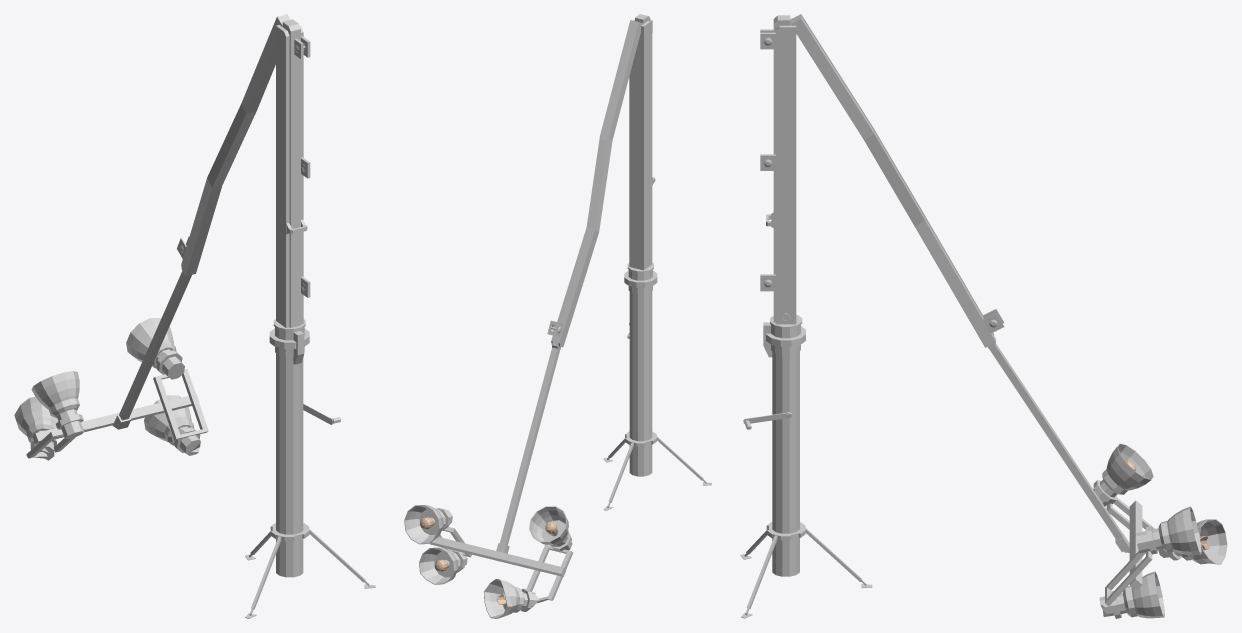
Rendered from SM_Lamp_Post_Broken.glb.
3 views of the same model, side by side, from view 1: azimuth 30°, elevation 25°; view 2: azimuth 150°, elevation 25°; view 3: azimuth 270°, elevation 25° (orthographic). The views are drawn at different scales.
Visible parts, largest first — view 1: SM_Lamp_Post_Broken; view 2: SM_Lamp_Post_Broken; view 3: SM_Lamp_Post_Broken.
Boxes of the visible parts, box(x1,y1,x2,y2) form: SM_Lamp_Post_Broken: box(14, 14, 375, 618); SM_Lamp_Post_Broken: box(404, 14, 711, 618); SM_Lamp_Post_Broken: box(740, 14, 1227, 618).
Size of the model in its own units: 0.9412 by 3.08 by 2.38.
